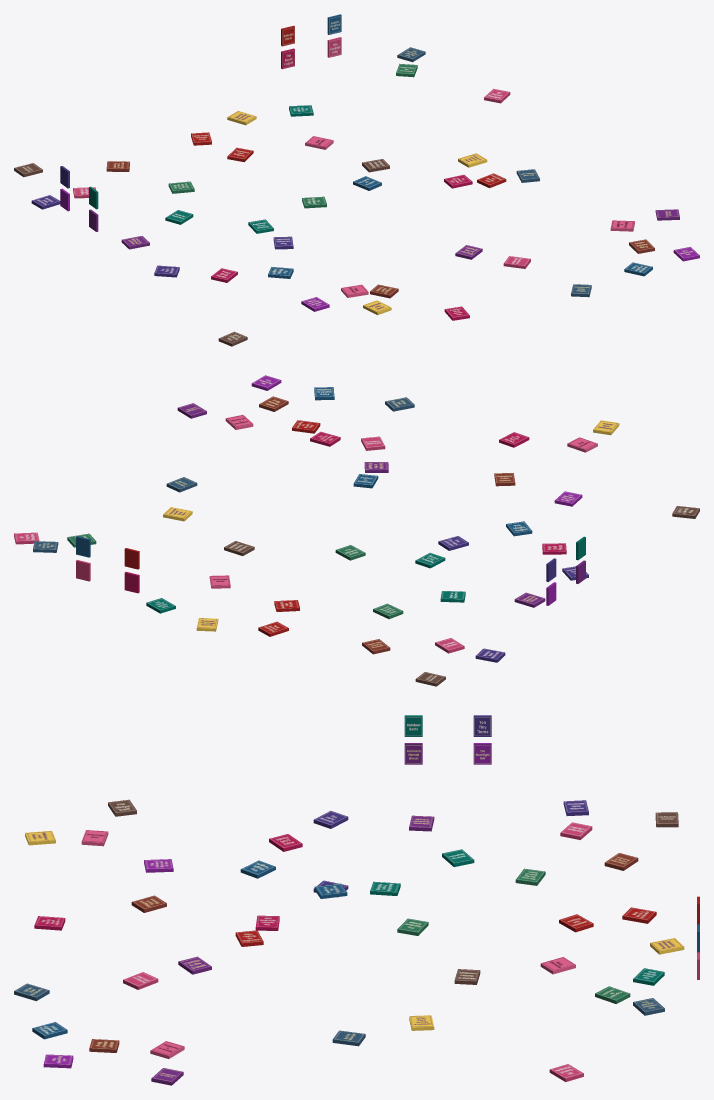
File: citadel_story_books.glb
3 views of the same model, one above another, from view 1: azimuth 30°, elevation 25°; view 2: azimuth 150°, elevation 25°; view 3: azimuth 270°, elevation 25° (orthographic). The views are drawn at different scales.
Parts seen in each view (by area): view 1: story_books; view 2: story_books; view 3: story_books.
Boxes of the visible parts, box(x1,y1,x2,y2) form: story_books: box(14, 14, 699, 346); story_books: box(14, 375, 699, 686); story_books: box(14, 715, 699, 1085).
Bounding box in the file's own units: 18.77 × 2.51 × 18.89.
Materials: 1 (1 with a texture image).
